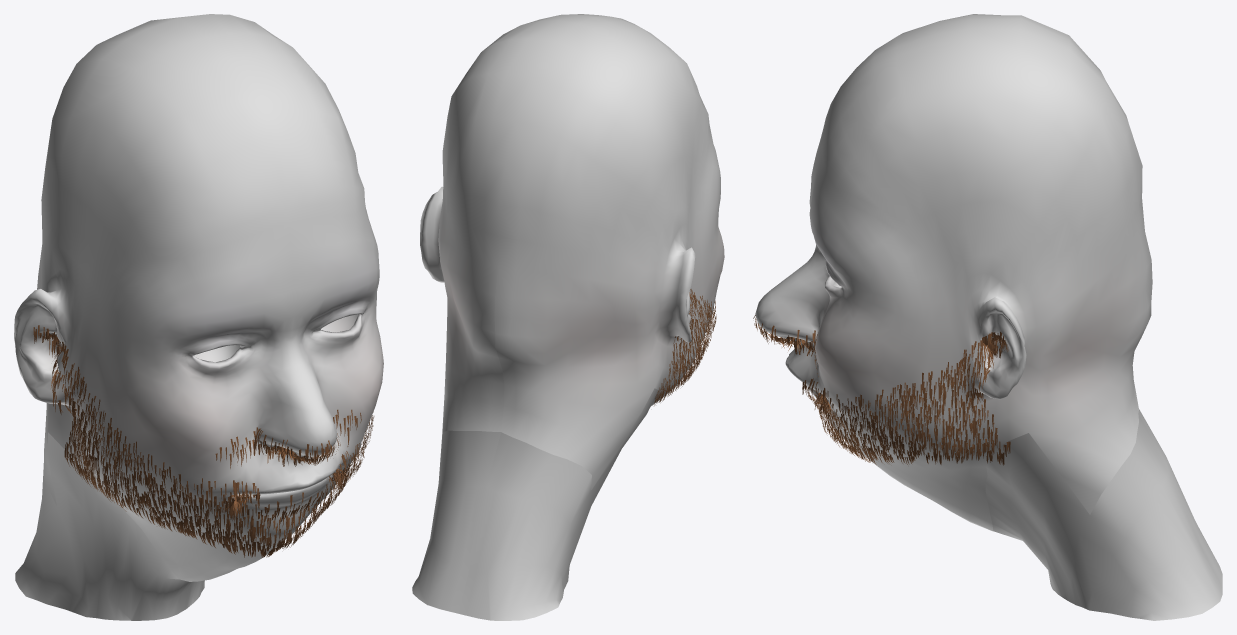
File: outlaw-2.glb
The picture shows the model from 3 angles, left to right: view 1: azimuth 30°, elevation 25°; view 2: azimuth 150°, elevation 25°; view 3: azimuth 270°, elevation 25°; orthographic projection. The views are drawn at different scales.
Visible parts, largest first — view 1: Sculpted outlaw 2, Calhoun’s swept auburn beard; view 2: Sculpted outlaw 2, Calhoun’s swept auburn beard; view 3: Sculpted outlaw 2, Calhoun’s swept auburn beard.
Part boxes in pixels (left/top/right/bottom): Sculpted outlaw 2: left=14, top=14, right=383, bottom=620; Calhoun’s swept auburn beard: left=33, top=325, right=374, bottom=557; Sculpted outlaw 2: left=412, top=14, right=724, bottom=620; Calhoun’s swept auburn beard: left=654, top=289, right=716, bottom=405; Sculpted outlaw 2: left=755, top=14, right=1222, bottom=620; Calhoun’s swept auburn beard: left=753, top=315, right=1010, bottom=465.
Bounding box in the file's own units: 0.1755 × 0.3142 × 0.2414.
